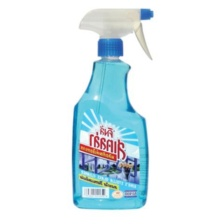cleaning_solution: (66, 4, 159, 212)
